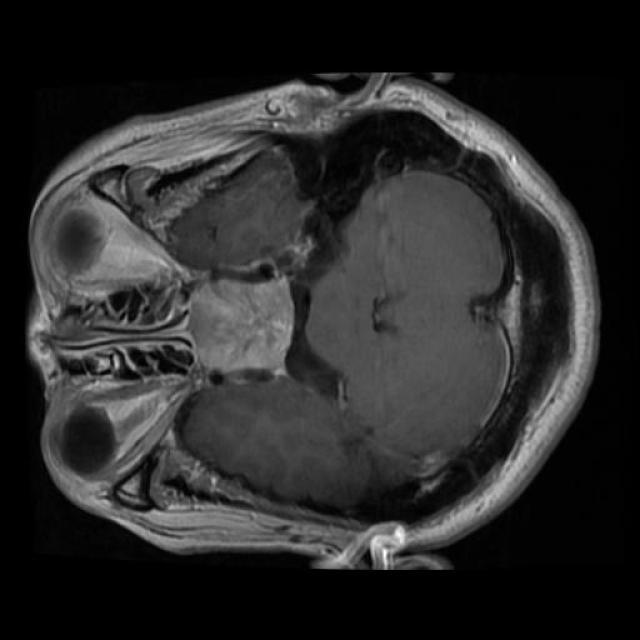Pituitary: (189, 279, 292, 373)
